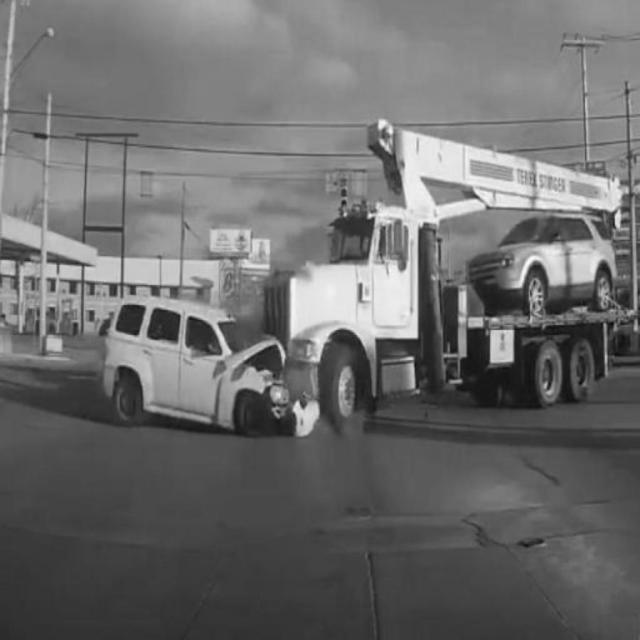accident: (107, 123, 622, 440)
vehicle: (473, 213, 617, 313)
